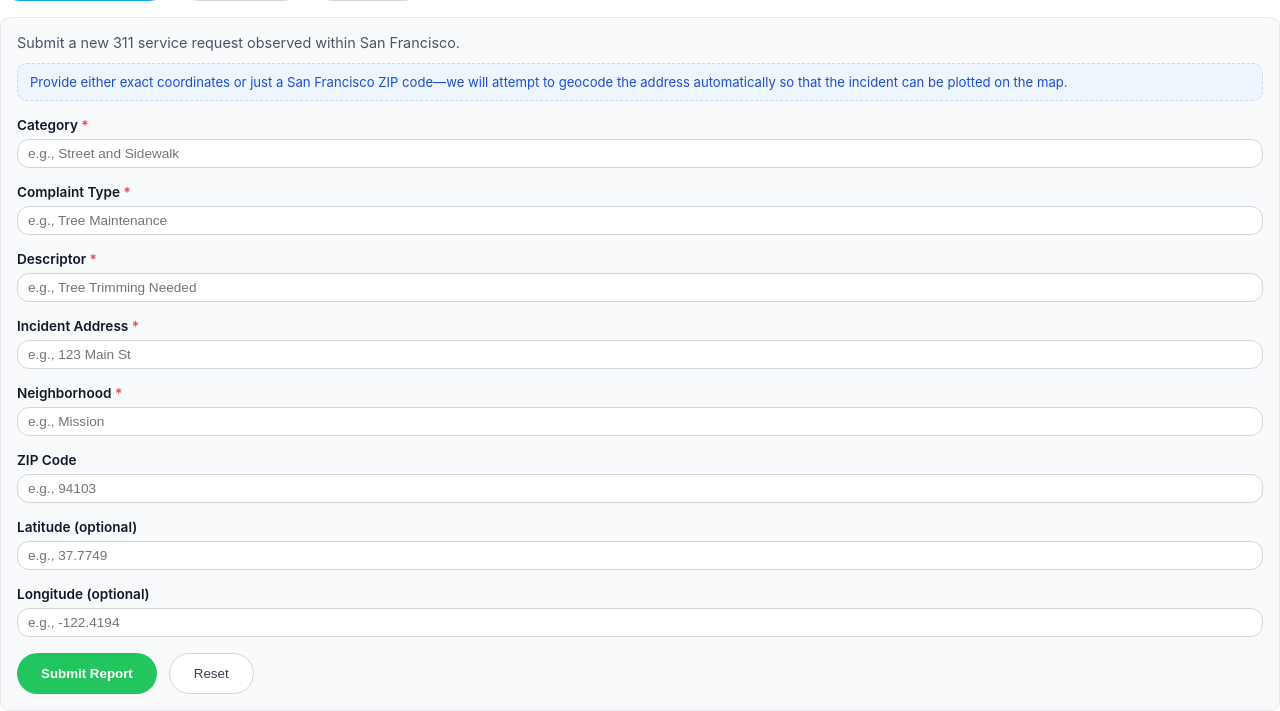
IncidentReport Component › shows validation message when submitting empty form
(page scrolled)
Click the button "Submit Report": (87, 674) [17,653,157,694]
(page scrolled)
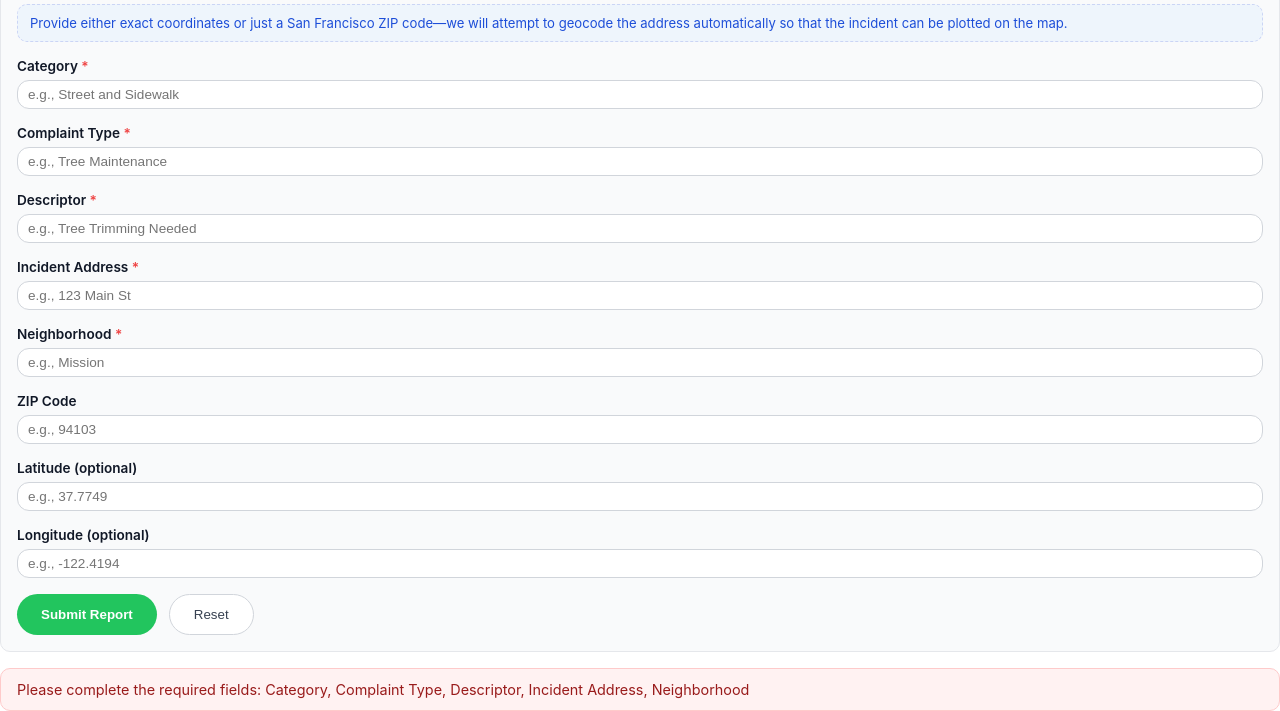
Check: the text "Please complete the required fields" is shown, box [17,681,749,698]
